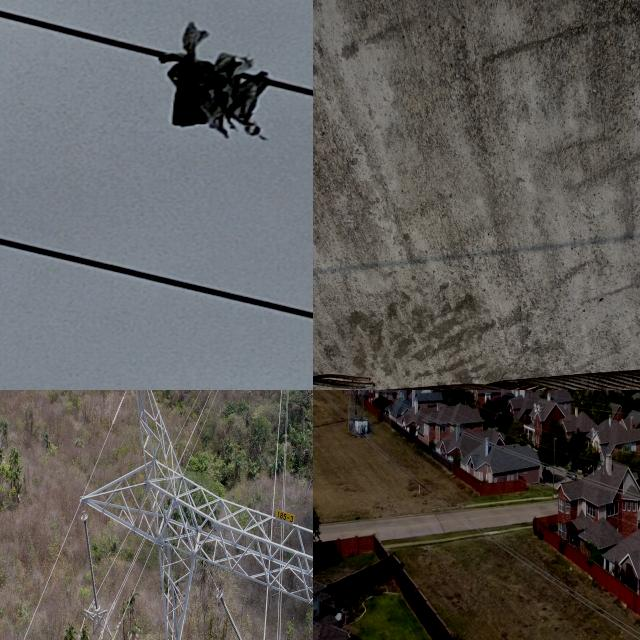杆塔: (78, 390, 313, 640), (341, 390, 376, 444)
植被遮挡: (141, 16, 282, 145)
正常绝缘子: (73, 500, 106, 624), (215, 588, 245, 640)
电缆破损: (316, 123, 640, 233)
